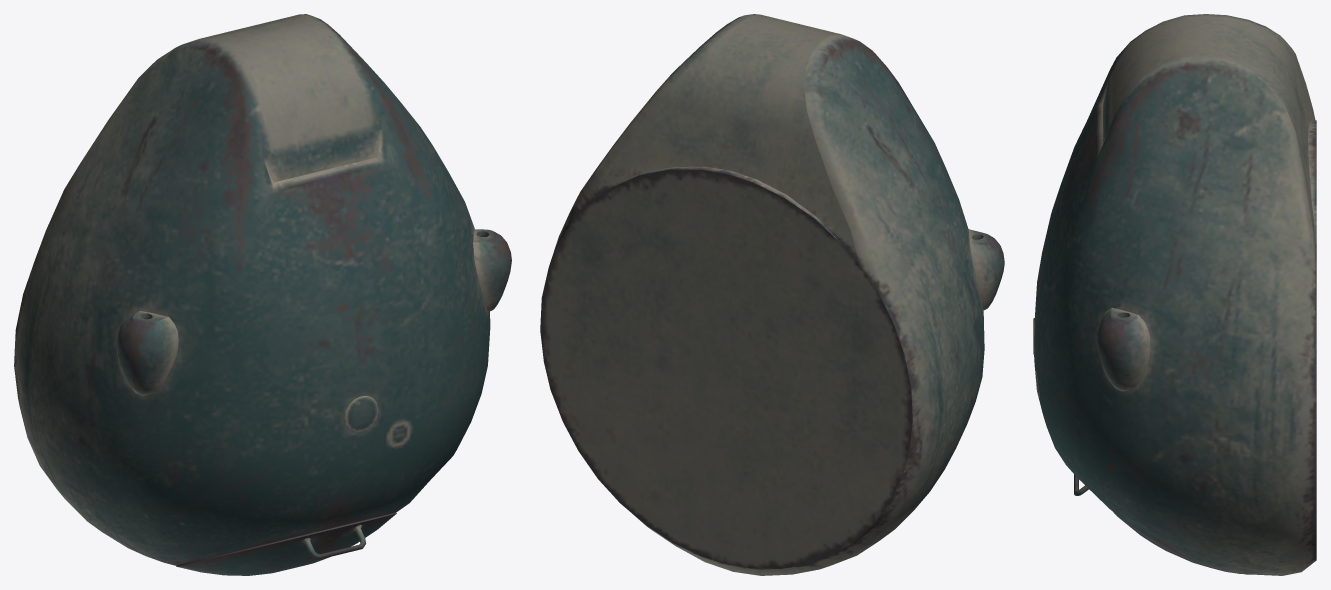
The model's file is Turret_01.glb.
The picture shows the model from 3 angles, left to right: view 1: azimuth 30°, elevation 25°; view 2: azimuth 150°, elevation 25°; view 3: azimuth 270°, elevation 25°; orthographic projection. The views are drawn at different scales.
Parts seen in each view (by area): view 1: set_0_group_0; view 2: set_0_group_0; view 3: set_0_group_0.
Boxes of the visible parts, <box> form: set_0_group_0: <box>14,14,511,575</box>; set_0_group_0: <box>540,14,1004,575</box>; set_0_group_0: <box>1033,14,1316,575</box>.
Size of the model in its own units: 1.27 by 1.58 by 0.7844.
Materials: 1 (1 with a texture image).
